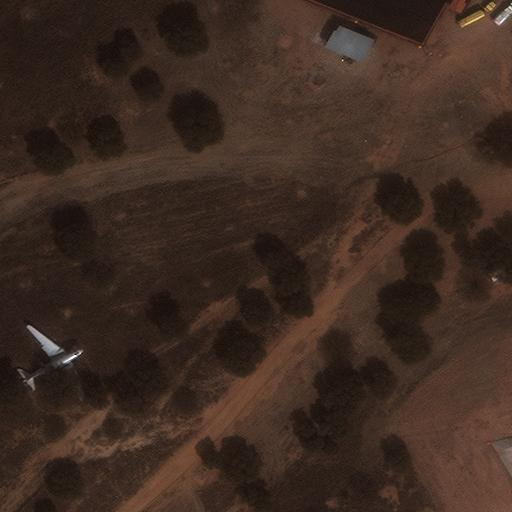Medium Civil Transport: (22, 324, 84, 398)
